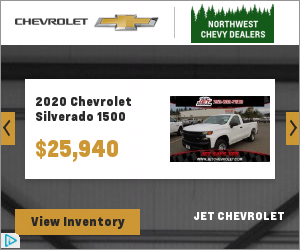fake_button: (11, 206, 147, 241)
